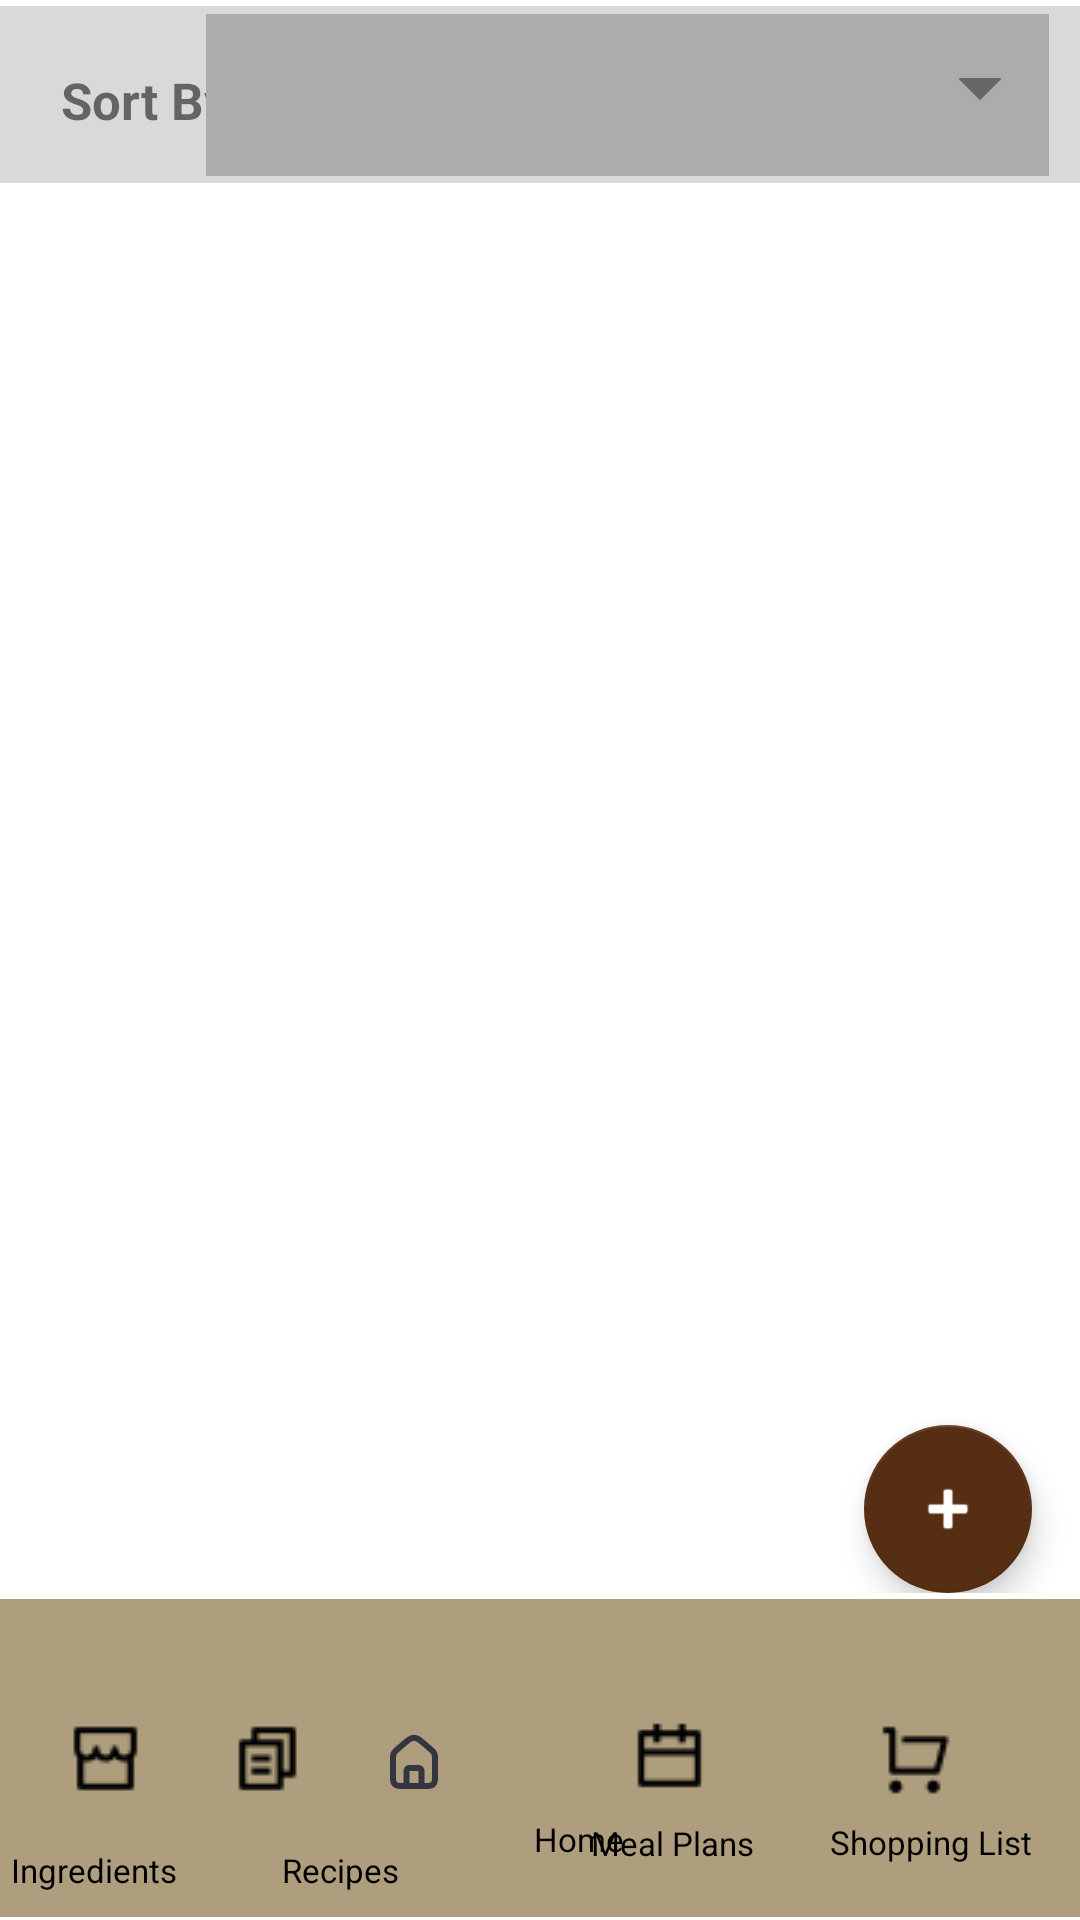

Where icons sit on this 1080x1920 app screen, as (x1, y1, x2, y2):
add: (864, 1425, 1032, 1593)
